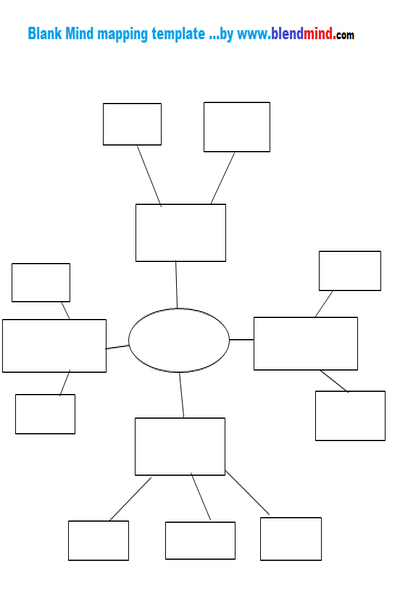arrow: (225, 469, 274, 517), (111, 477, 153, 518), (139, 146, 161, 205), (212, 152, 234, 204), (191, 474, 213, 521), (321, 370, 348, 390), (178, 373, 188, 415), (173, 261, 180, 308), (317, 293, 331, 316), (61, 371, 72, 391), (60, 301, 71, 318), (230, 336, 253, 344), (105, 343, 127, 350)
idea: (253, 316, 359, 372), (2, 318, 107, 374), (134, 416, 226, 476), (135, 204, 227, 263), (315, 390, 386, 442), (204, 101, 272, 152), (164, 520, 237, 561), (259, 516, 324, 562), (66, 519, 131, 562), (318, 250, 382, 292), (102, 103, 160, 148), (15, 393, 77, 434), (10, 263, 70, 301)
topic: (129, 309, 232, 372)
